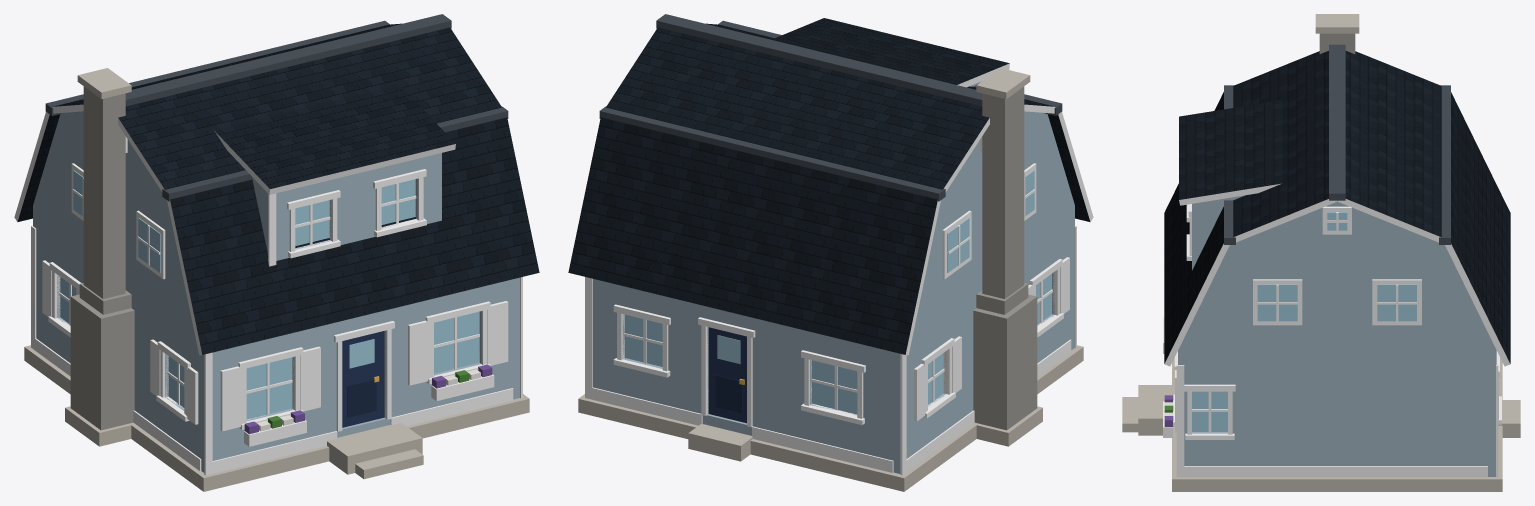
Rendered from base-05-level1.glb.
The picture shows the model from 3 angles, left to right: view 1: azimuth 30°, elevation 25°; view 2: azimuth 150°, elevation 25°; view 3: azimuth 270°, elevation 25°; orthographic projection. The views are drawn at different scales.
Visible parts, largest first — view 1: base_house_5_finished; view 2: base_house_5_finished; view 3: base_house_5_finished.
Part boxes in pixels (box(x1,y1,x2,y2)): base_house_5_finished: box(14, 14, 539, 491); base_house_5_finished: box(568, 14, 1093, 491); base_house_5_finished: box(1122, 14, 1520, 491).
Size of the model in its own units: 9.74 by 8.88 by 10.
15 materials, 1 textured.
